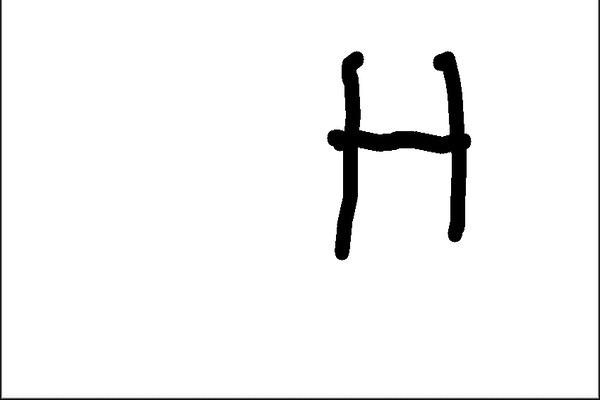H: (325, 39, 474, 269)
